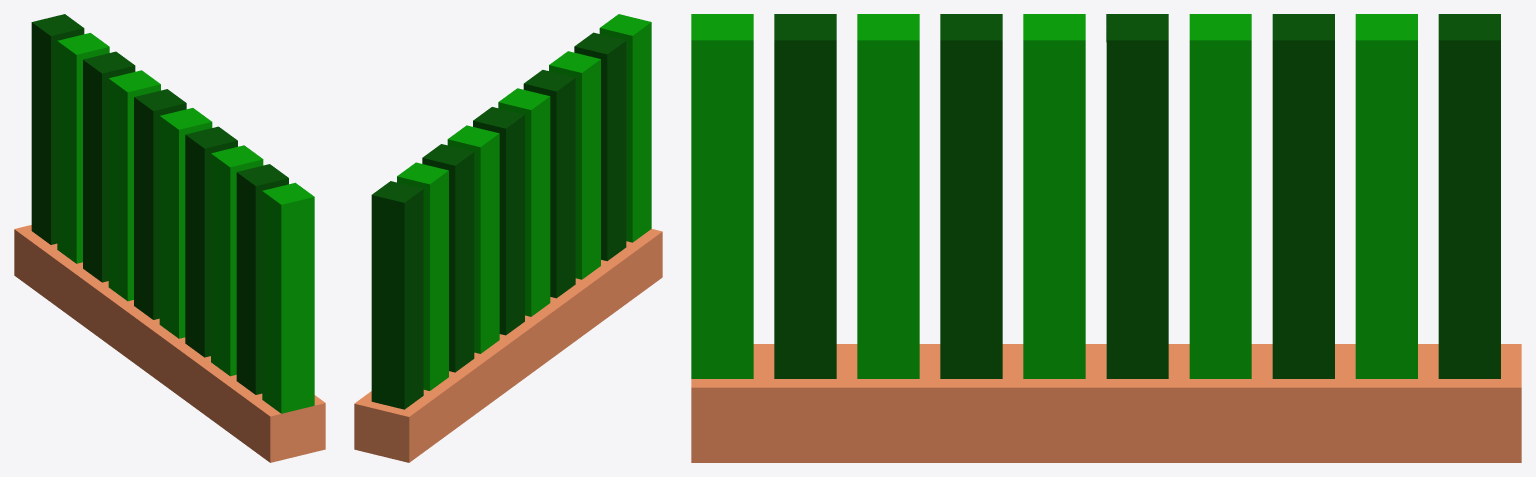
The model's file is muro de arboles.fbx.
The picture shows the model from 3 angles, left to right: view 1: azimuth 30°, elevation 25°; view 2: azimuth 150°, elevation 25°; view 3: azimuth 270°, elevation 25°; orthographic projection. The views are drawn at different scales.
Visible parts, largest first — view 1: Muro de arboles; view 2: Muro de arboles; view 3: Muro de arboles.
Part boxes in pixels (bbox=[...]): Muro de arboles: bbox=[14, 14, 325, 462]; Muro de arboles: bbox=[354, 14, 662, 462]; Muro de arboles: bbox=[691, 14, 1521, 462].
Size of the model in its own units: 50 by 220 by 400.
1 material, 1 textured.
